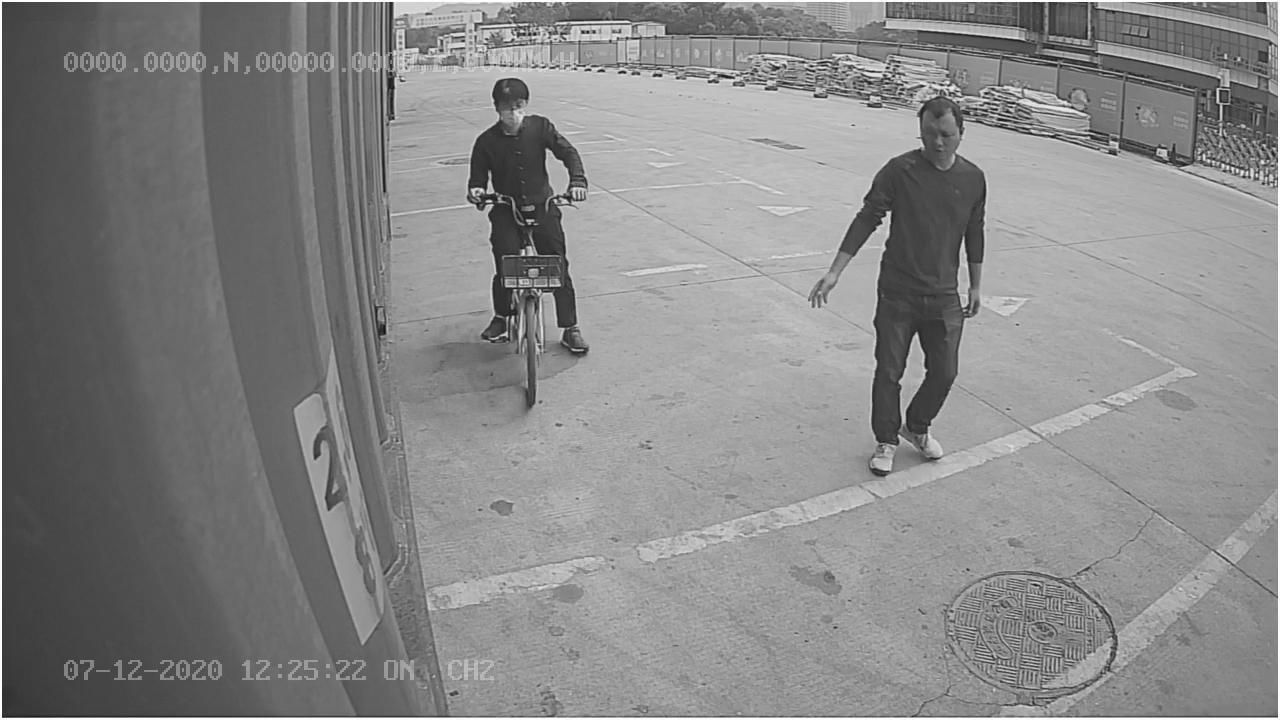person: (803, 88, 994, 482)
